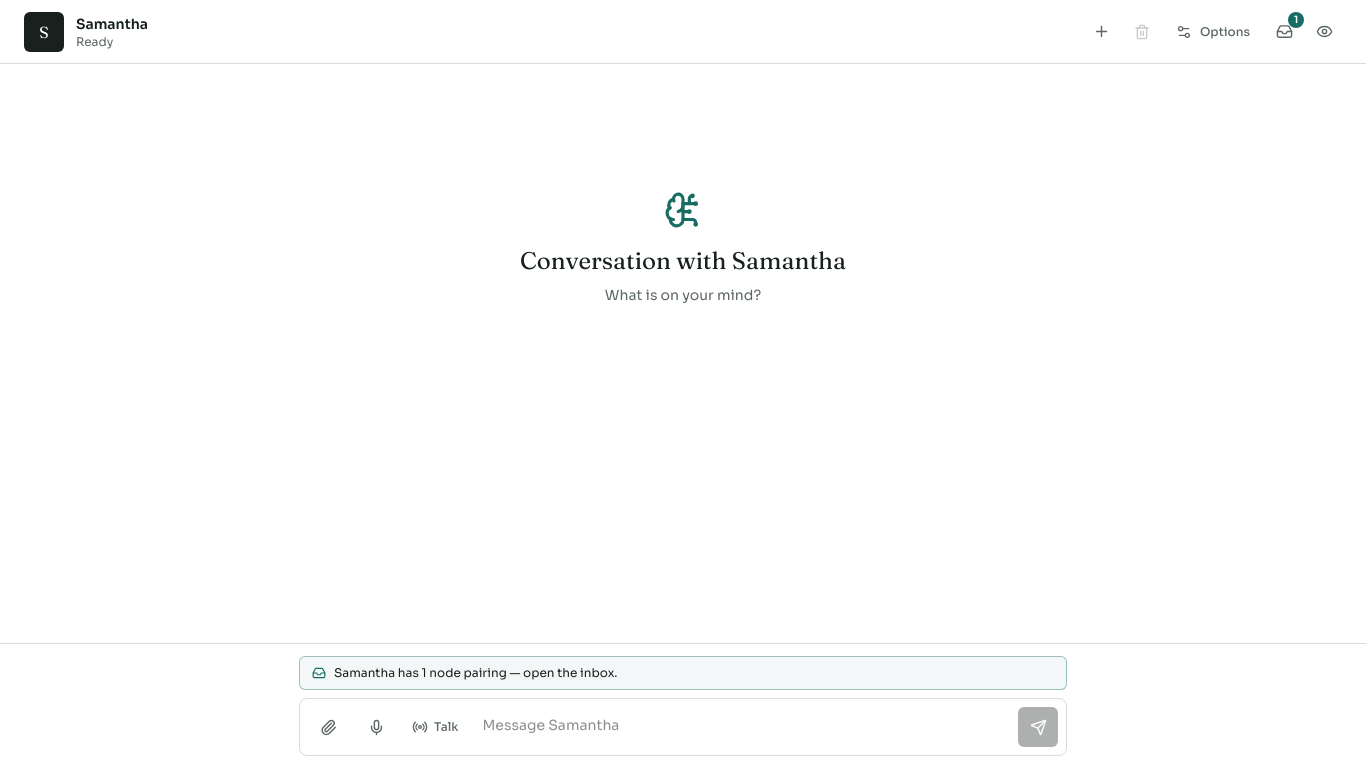
Test: ChatPage outbox replies › pairs a signed companion node only after an inbox approval
Expected: the text box labelled "Message Samantha" is shown, [474,707,1010,747]
Step 1. Click the button named "Show inbox" → click(1284, 32), box [1266,14,1302,50]
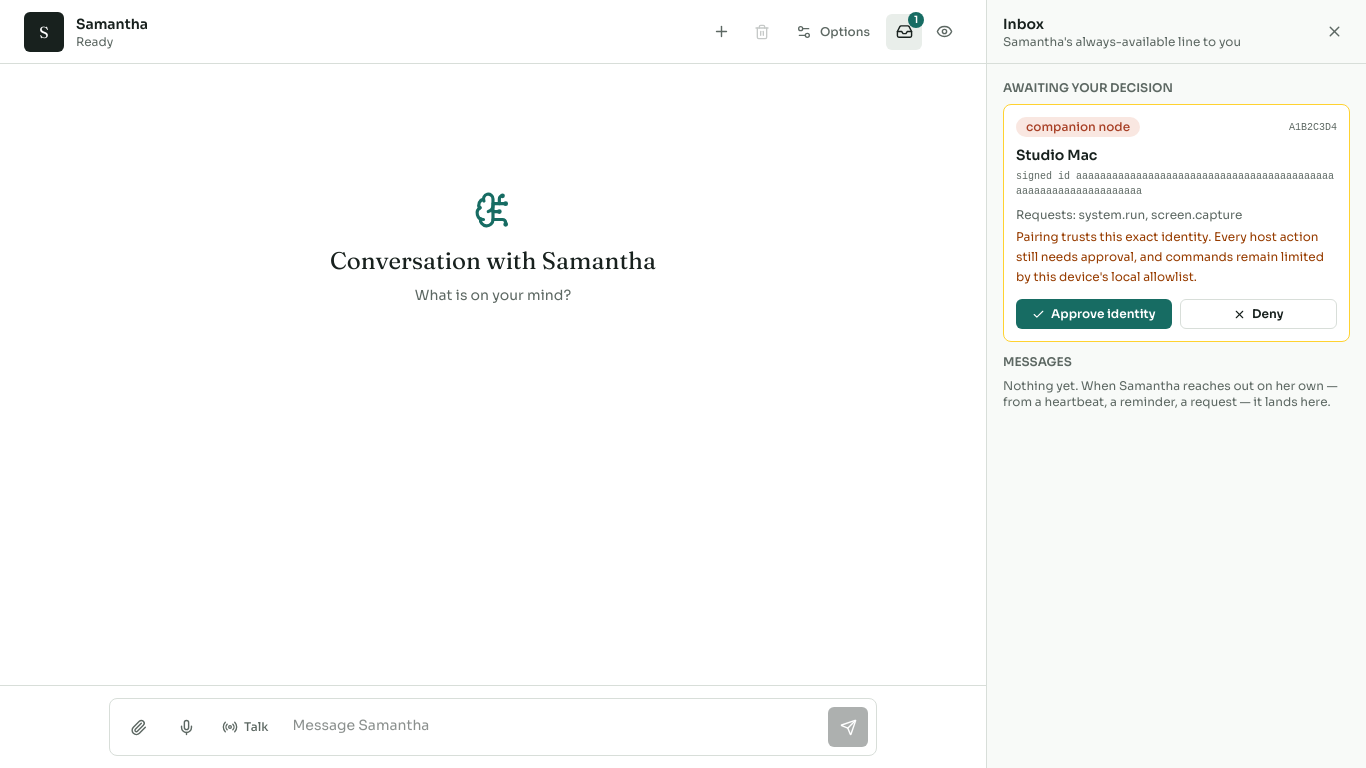
Expected: the text "Studio Mac" is shown, [1016,146,1097,164]
Expected: the text "Every host action still needs approval" is shown, [1016,229,1324,284]
Step 2. Click the button "Approve identity" → click(1094, 314), box [1016,299,1172,329]
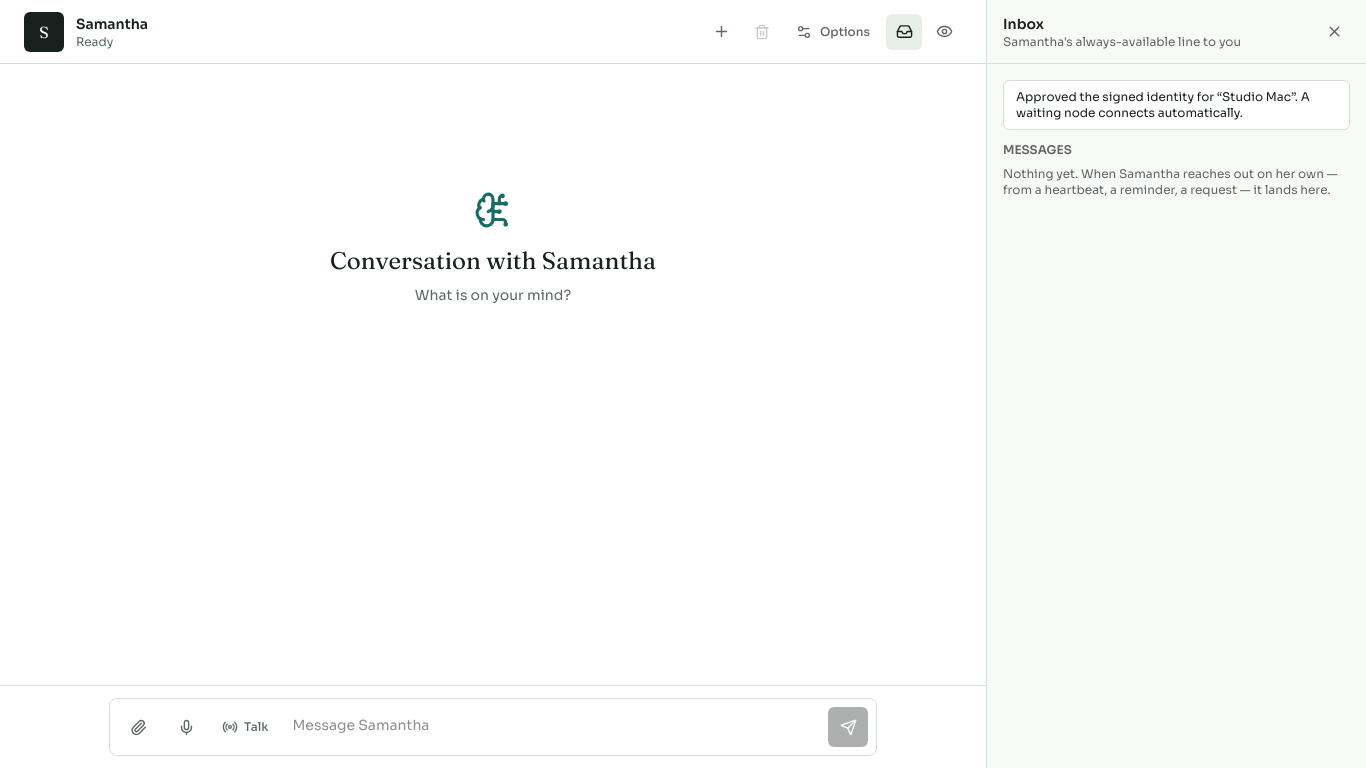
Expected: the text "Approved the signed identity for “Studio Mac”. A waiting node connects automatically." is shown, [1016,89,1310,120]
